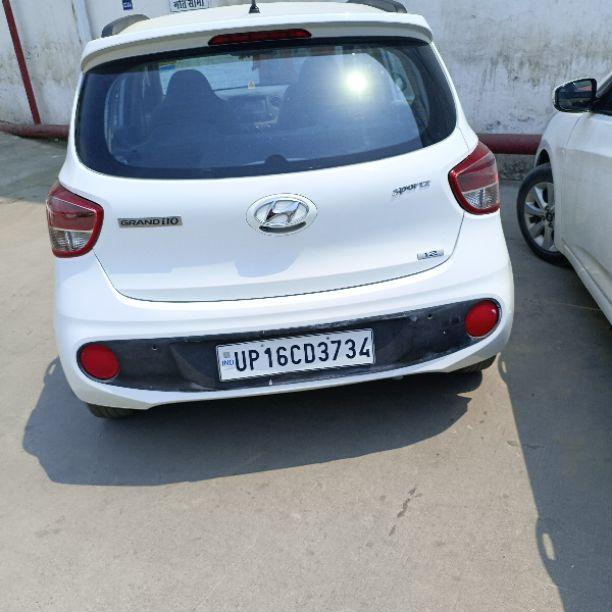license_plate: (214, 326, 376, 382)
